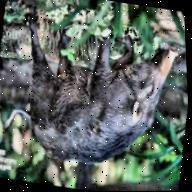boar: (0, 3, 187, 180)
